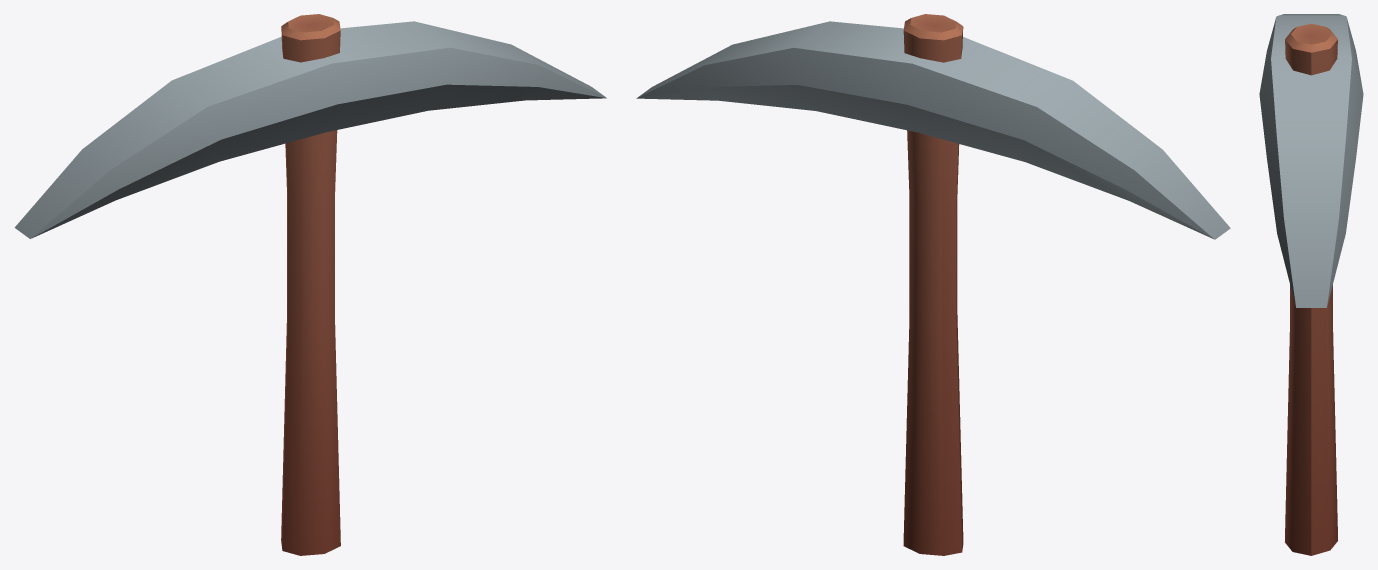
File: pickaxe.glb
3 views of the same model, side by side, from view 1: azimuth 30°, elevation 25°; view 2: azimuth 150°, elevation 25°; view 3: azimuth 270°, elevation 25° (orthographic). The views are drawn at different scales.
Visible parts, largest first — view 1: pickaxe; view 2: pickaxe; view 3: pickaxe.
Part boxes in pixels (bbox=[...]): pickaxe: bbox=[14, 14, 606, 555]; pickaxe: bbox=[636, 14, 1230, 555]; pickaxe: bbox=[1259, 14, 1363, 555].
Size of the model in its own units: 1.6 by 1.4 by 0.2568.
1 material, 1 textured.
